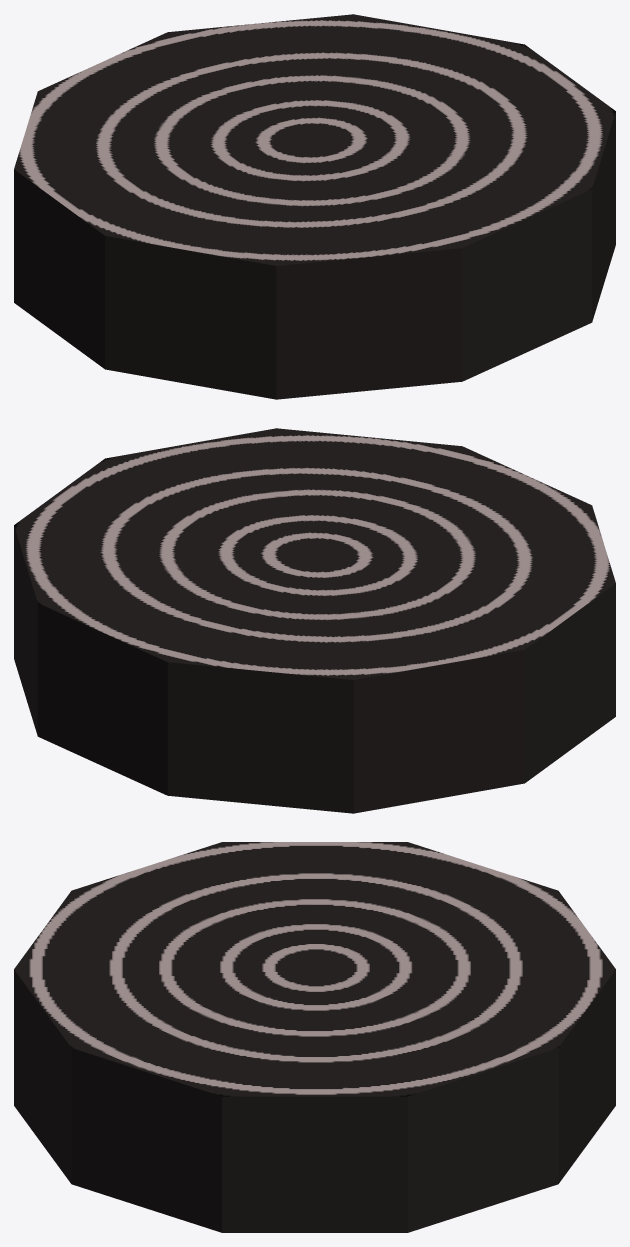
The model's file is carrom_piece_black.glb.
3 views of the same model, one above another, from view 1: azimuth 30°, elevation 25°; view 2: azimuth 150°, elevation 25°; view 3: azimuth 270°, elevation 25° (orthographic). The views are drawn at different scales.
Parts seen in each view (by area): view 1: Cylinder; view 2: Cylinder; view 3: Cylinder.
Boxes of the visible parts, left/top/right/bottom form: Cylinder: left=14, top=14, right=615, bottom=399; Cylinder: left=14, top=428, right=615, bottom=813; Cylinder: left=14, top=842, right=615, bottom=1232.
Bounding box in the file's own units: 1 × 0.25 × 1.
Materials: 1 (1 with a texture image).
